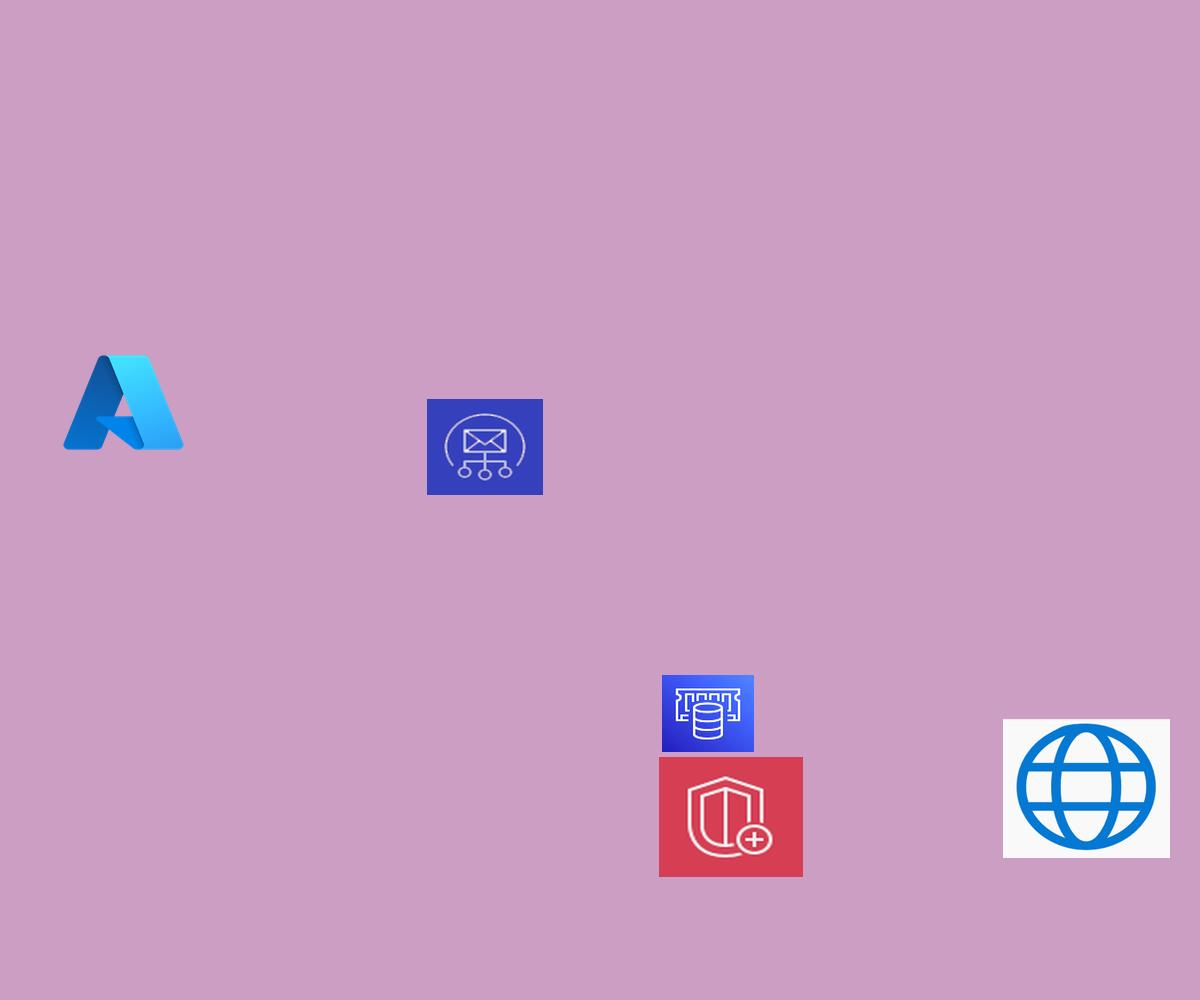AWS-ElastiCache: (662, 675, 754, 752)
AWS-Shield: (659, 757, 803, 877)
AWS-Simple-Email-Service: (427, 399, 543, 495)
Azure_http: (1003, 719, 1170, 858)
Azure_services: (58, 348, 189, 457)
